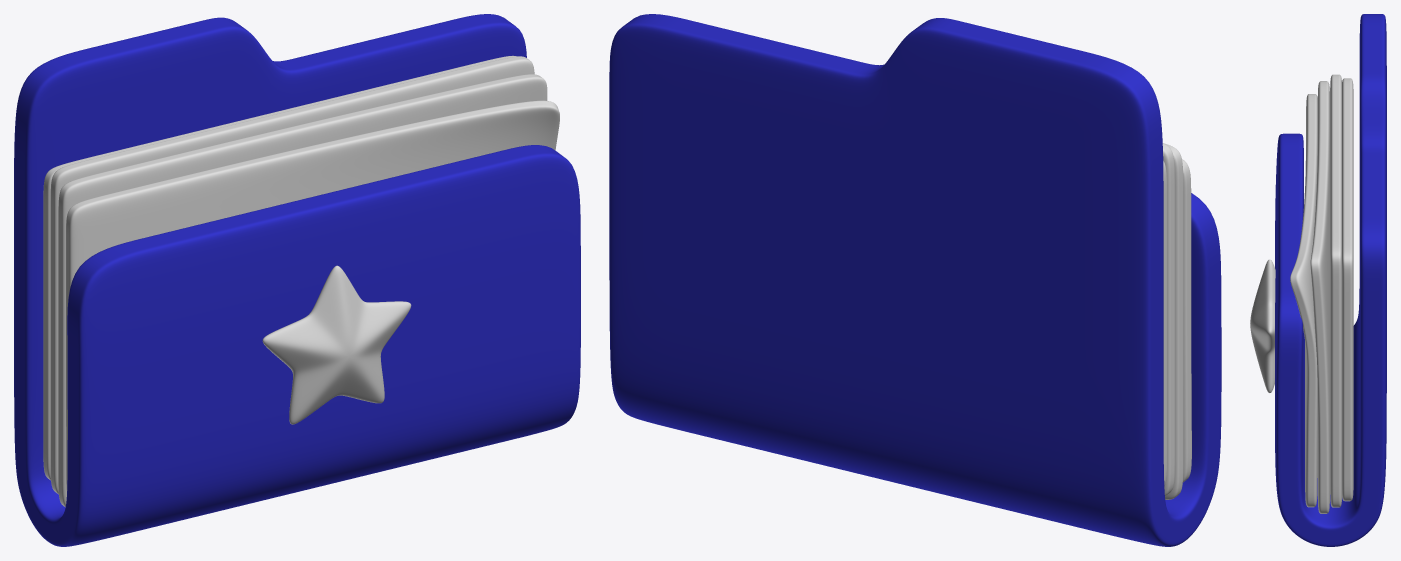
File: folder-fav.fbx.glb
3 renders of one model, left to right at view 1: azimuth 30°, elevation 25°; view 2: azimuth 150°, elevation 25°; view 3: azimuth 270°, elevation 25°, orthographic. The views are drawn at different scales.
Parts seen in each view (by area): view 1: Folder Star; view 2: Folder Star; view 3: Folder Star.
Part boxes in pixels (x1,y1,x2,y2): Folder Star: (14,14,580,546); Folder Star: (609,14,1221,546); Folder Star: (1250,14,1386,546).
Size of the model in its own units: 1.9 by 1.65 by 0.5705.
